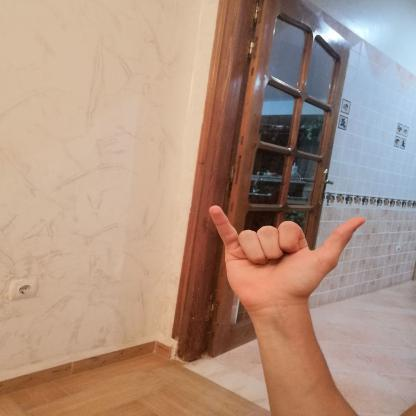YA: (190, 197, 378, 319)
